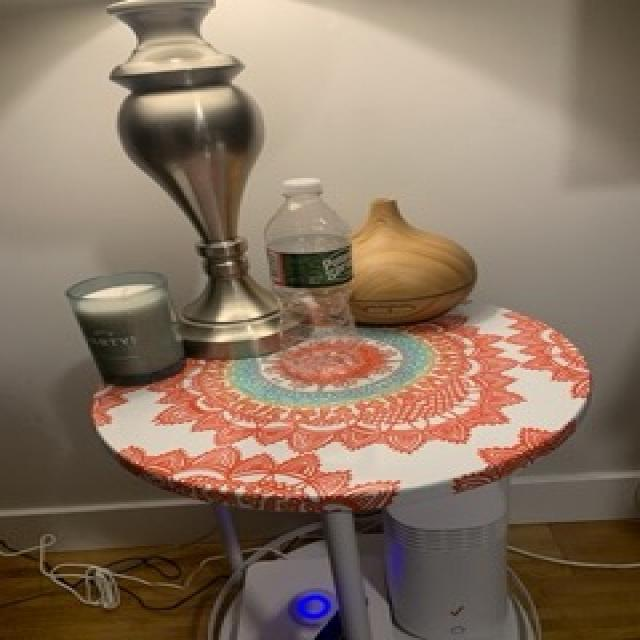water_bottle: (268, 176, 373, 382)
